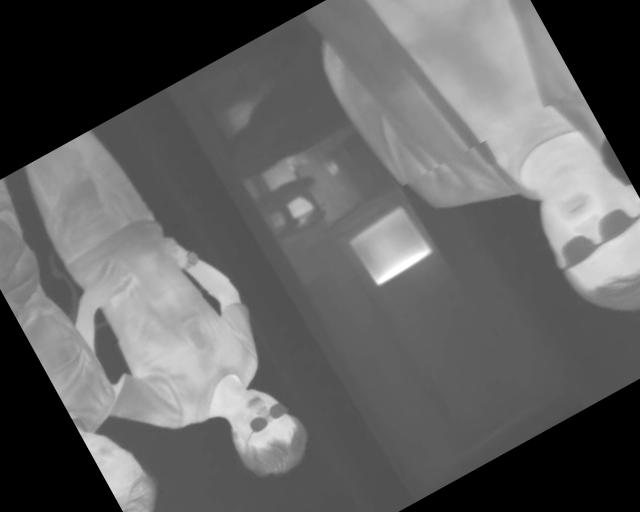face: (518, 147, 640, 337), (211, 373, 320, 490)
